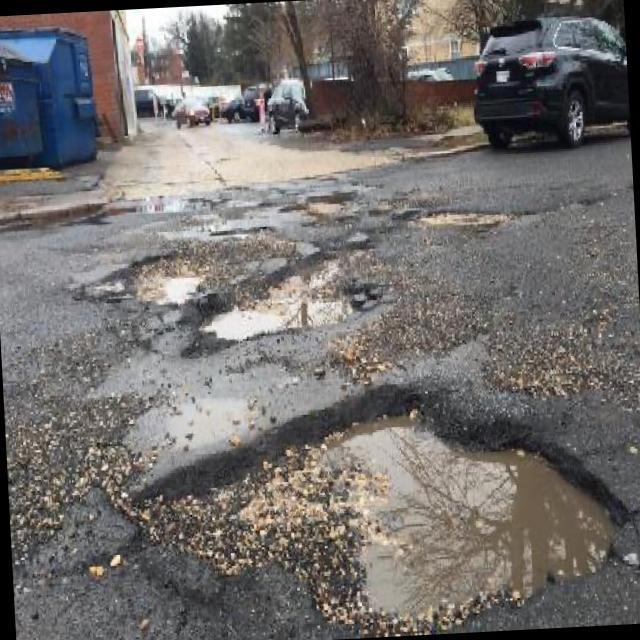Pothole: (139, 408, 612, 636), (73, 228, 387, 348), (416, 212, 507, 231), (303, 199, 358, 225)
